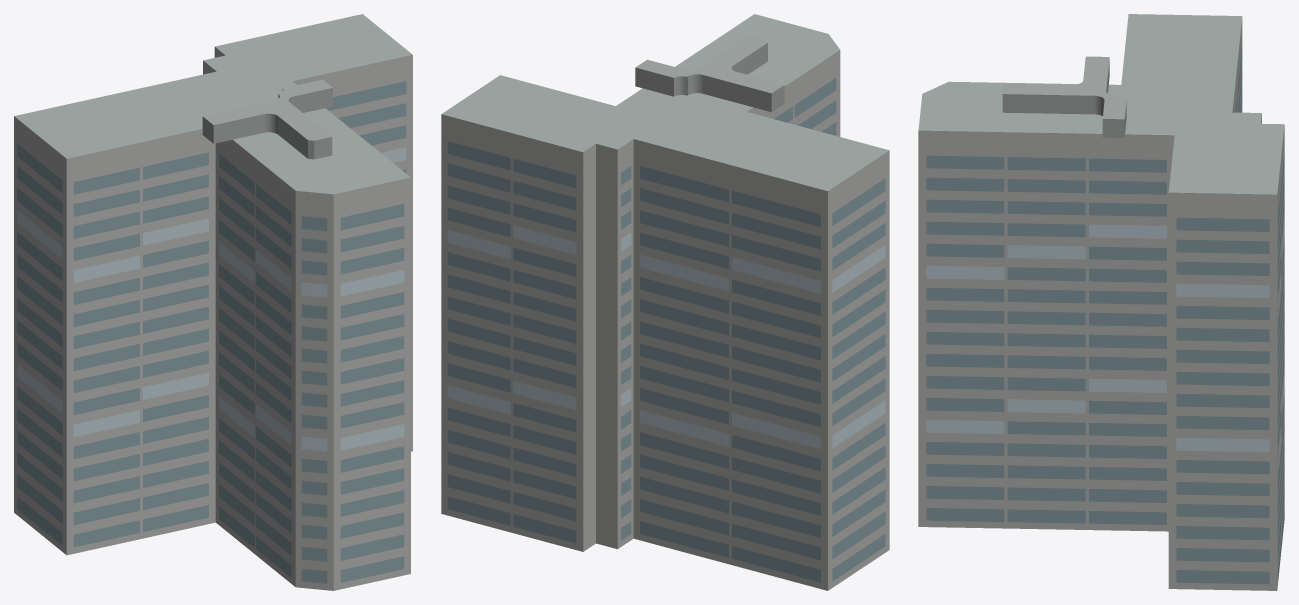
Rendered from apt-a12076601.glb.
3 views of the same model, side by side, from view 1: azimuth 30°, elevation 25°; view 2: azimuth 150°, elevation 25°; view 3: azimuth 270°, elevation 25° (orthographic).
Visible parts, largest first — view 1: apt-a12076601; view 2: apt-a12076601; view 3: apt-a12076601.
Boxes of the visible parts, box(x1,y1,x2,y2) form: apt-a12076601: box(14, 14, 412, 590); apt-a12076601: box(441, 14, 889, 590); apt-a12076601: box(918, 14, 1284, 590).
Size of the model in its own units: 45.74 by 49 by 39.18.
